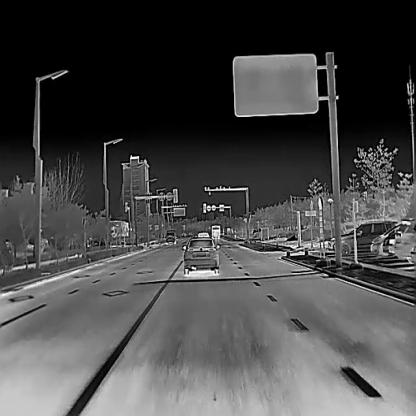car: (328, 219, 396, 254), (182, 234, 219, 274), (164, 228, 176, 244)
truck: (211, 224, 220, 238)
